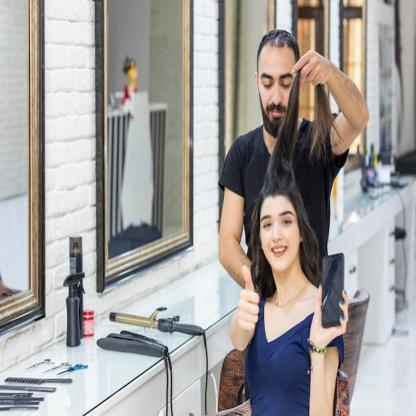thumb_up: (233, 262, 263, 334)
